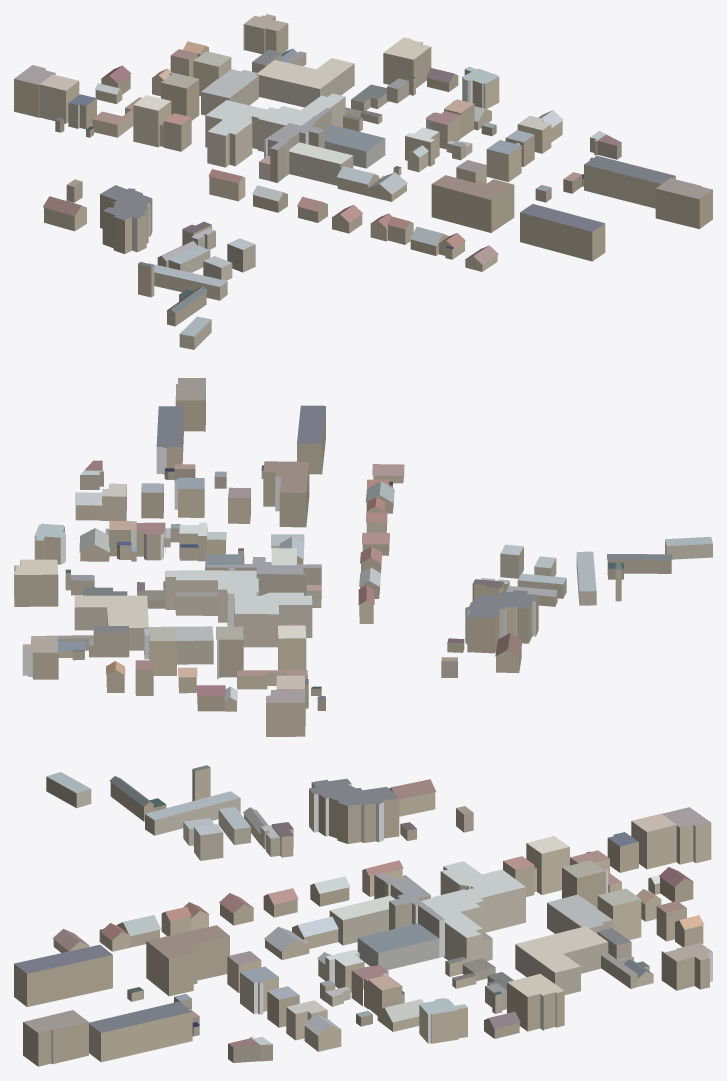
The picture shows the model from 3 angles, top to bottom: view 1: azimuth 30°, elevation 25°; view 2: azimuth 150°, elevation 25°; view 3: azimuth 270°, elevation 25°; orthographic projection. The views are drawn at different scales.
Parts seen in each view (by area): view 1: tuile; view 2: tuile; view 3: tuile.
Boxes of the visible parts, <box> form: tuile: <box>14,14,712,349</box>; tuile: <box>14,378,712,736</box>; tuile: <box>14,765,712,1066</box>.
Bounding box in the file's own units: 262 × 20.36 × 269.
